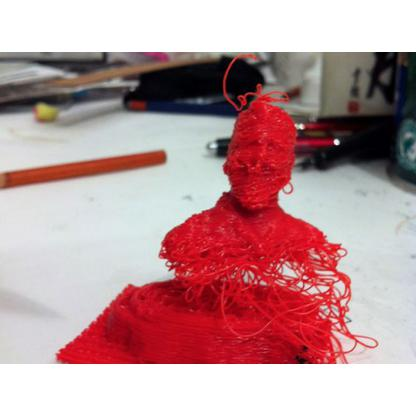fail: (157, 210, 380, 350)
